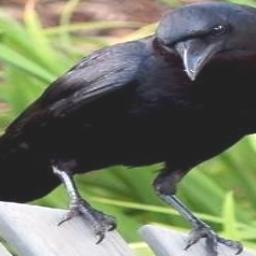Crow: (0, 2, 256, 256)
